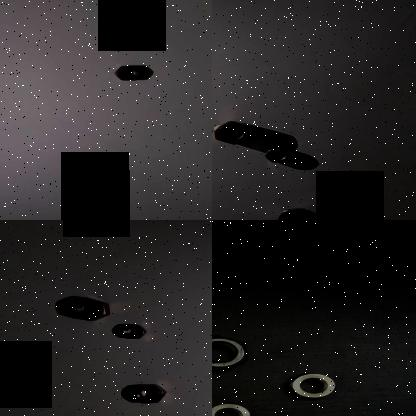NUTS: (285, 368, 337, 402), (212, 333, 248, 371), (63, 298, 110, 322), (212, 121, 256, 145), (126, 382, 170, 406), (258, 204, 314, 220), (212, 399, 255, 416), (112, 64, 144, 84), (115, 322, 150, 340), (262, 146, 290, 166)
